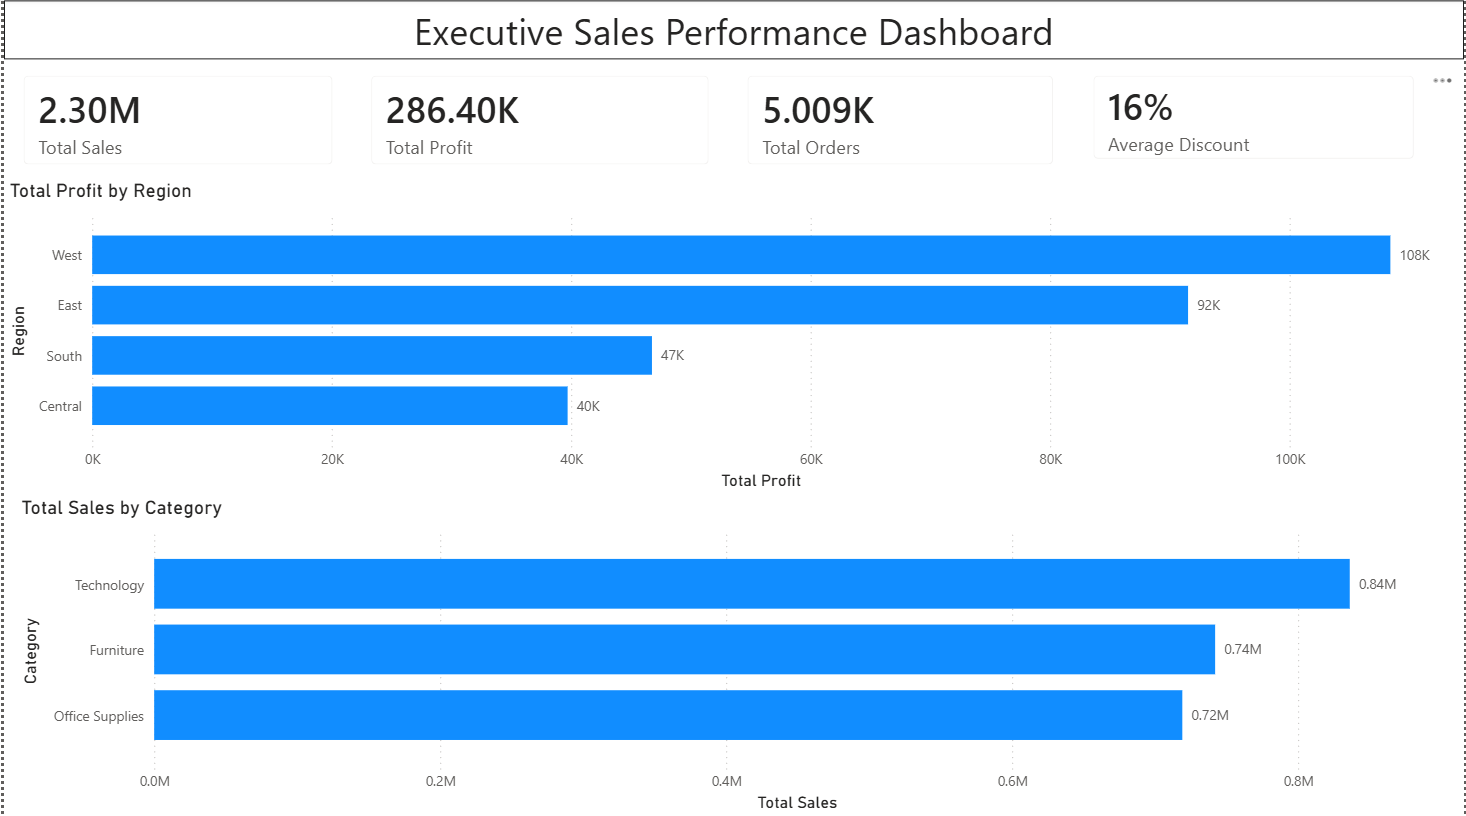

Layout of this report page (visuals, bound fields, positions):
{"tool":"powerbi","page":{"name":"Executive Dashboard","canvas":[1280,720],"ordinal":0},"visuals":[{"type":"cardVisual","fields":{"Data":["Sum(Sample - Superstore.Sales)"]},"box":[0,52.5,305,112.5],"z":0},{"type":"cardVisual","fields":{"Data":["Sum(Sample - Superstore.Profit)"]},"box":[305,52.5,330,112.5],"z":1000},{"type":"cardVisual","fields":{"Data":["Count(Sample - Superstore.Order ID)"]},"box":[635,52.5,302.5,112.5],"z":2000},{"type":"barChart","fields":{"Category":["Sample - Superstore.Region"],"Y":["Sum(Sample - Superstore.Profit)"]},"box":[0,160,1270,277.5],"z":3000},{"type":"cardVisual","fields":{"Data":["Avg(Sample - Superstore.Discount)"]},"box":[937.5,52.5,315,107.5],"z":4000},{"type":"barChart","fields":{"Y":["Sum(Sample - Superstore.Sales)"],"Category":["Sample - Superstore.Category"]},"box":[10.9,438.2,1269.1,281.8],"z":4001},{"type":"textbox","box":[0,2.5,1280,52.5],"z":4002}]}

Visuals, with their boxes in screenshot pixels (x1, y1, x2, y2), scaled from the page's 1280x720 canvas onto the 1466x816 screenshot:
cardVisual - Sum(Sample - Superstore.Sales): BBox(0, 60, 349, 187)
cardVisual - Sum(Sample - Superstore.Profit): BBox(349, 60, 727, 187)
cardVisual - Count(Sample - Superstore.Order ID): BBox(727, 60, 1074, 187)
barChart - Sample - Superstore.Region x Sum(Sample - Superstore.Profit): BBox(0, 181, 1455, 496)
cardVisual - Avg(Sample - Superstore.Discount): BBox(1074, 60, 1435, 181)
barChart - Sum(Sample - Superstore.Sales) x Sample - Superstore.Category: BBox(12, 497, 1465, 815)
textbox: BBox(0, 3, 1465, 62)
